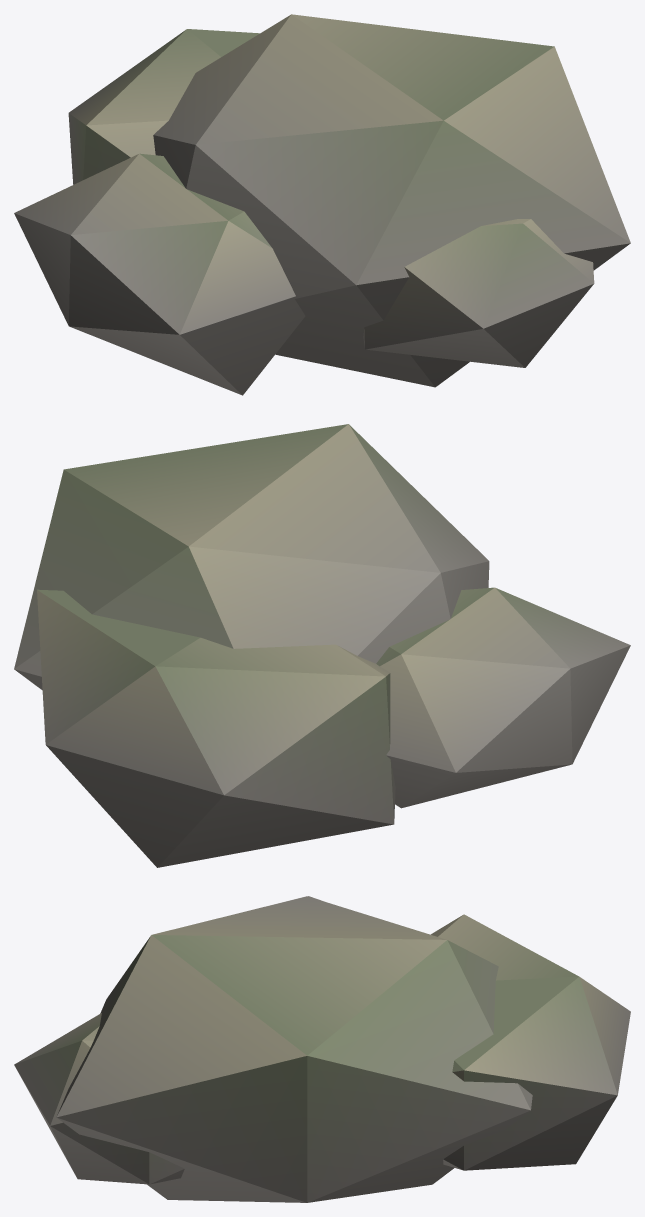
File: outcrop_b.glb
3 views of the same model, one above another, from view 1: azimuth 30°, elevation 25°; view 2: azimuth 150°, elevation 25°; view 3: azimuth 270°, elevation 25° (orthographic). The views are drawn at different scales.
Visible parts, largest first — view 1: outcrop_b; view 2: outcrop_b; view 3: outcrop_b.
Boxes of the visible parts, x1,y1,x2,y2 form: outcrop_b: (14, 14, 630, 395); outcrop_b: (14, 424, 630, 867); outcrop_b: (14, 896, 630, 1202).
Size of the model in its own units: 1.26 by 0.6769 by 1.43.
